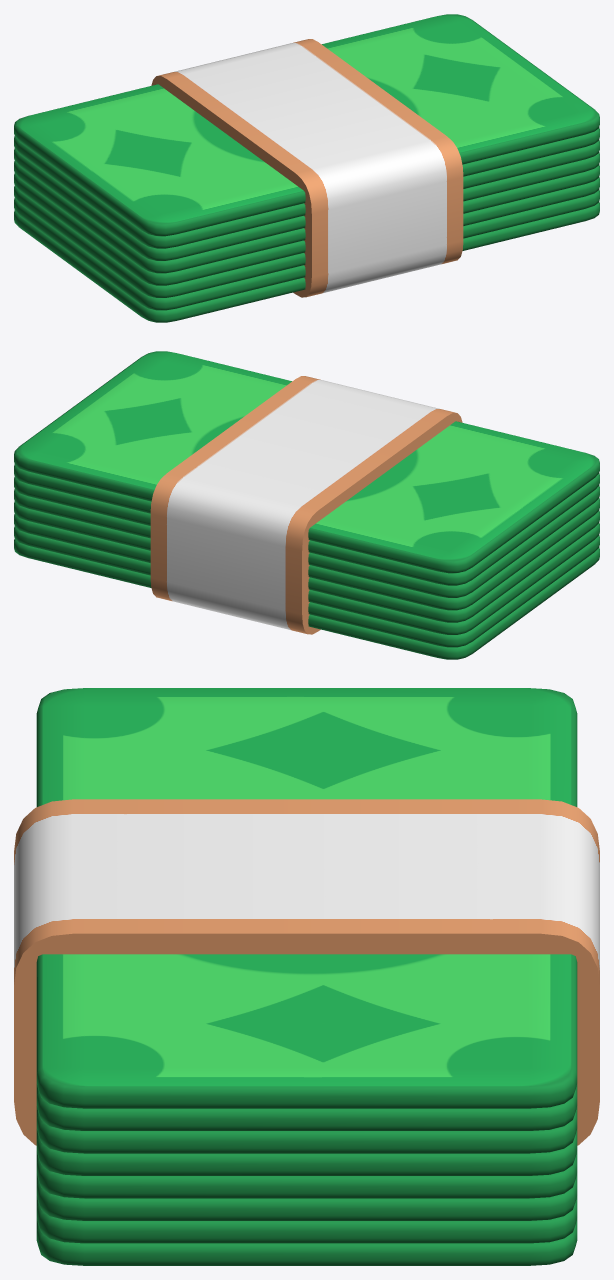
Rendered from tomarMoney.FBX.
The picture shows the model from 3 angles, top to bottom: view 1: azimuth 30°, elevation 25°; view 2: azimuth 150°, elevation 25°; view 3: azimuth 270°, elevation 25°; orthographic projection. The views are drawn at different scales.
Visible parts, largest first — view 1: PaperMoney_02; view 2: PaperMoney_02; view 3: PaperMoney_02.
Part boxes in pixels (bbox=[...]): PaperMoney_02: bbox=[14, 14, 599, 322]; PaperMoney_02: bbox=[14, 351, 599, 659]; PaperMoney_02: bbox=[14, 688, 599, 1265].
Size of the model in its own units: 30 by 7.63 by 18.43.
